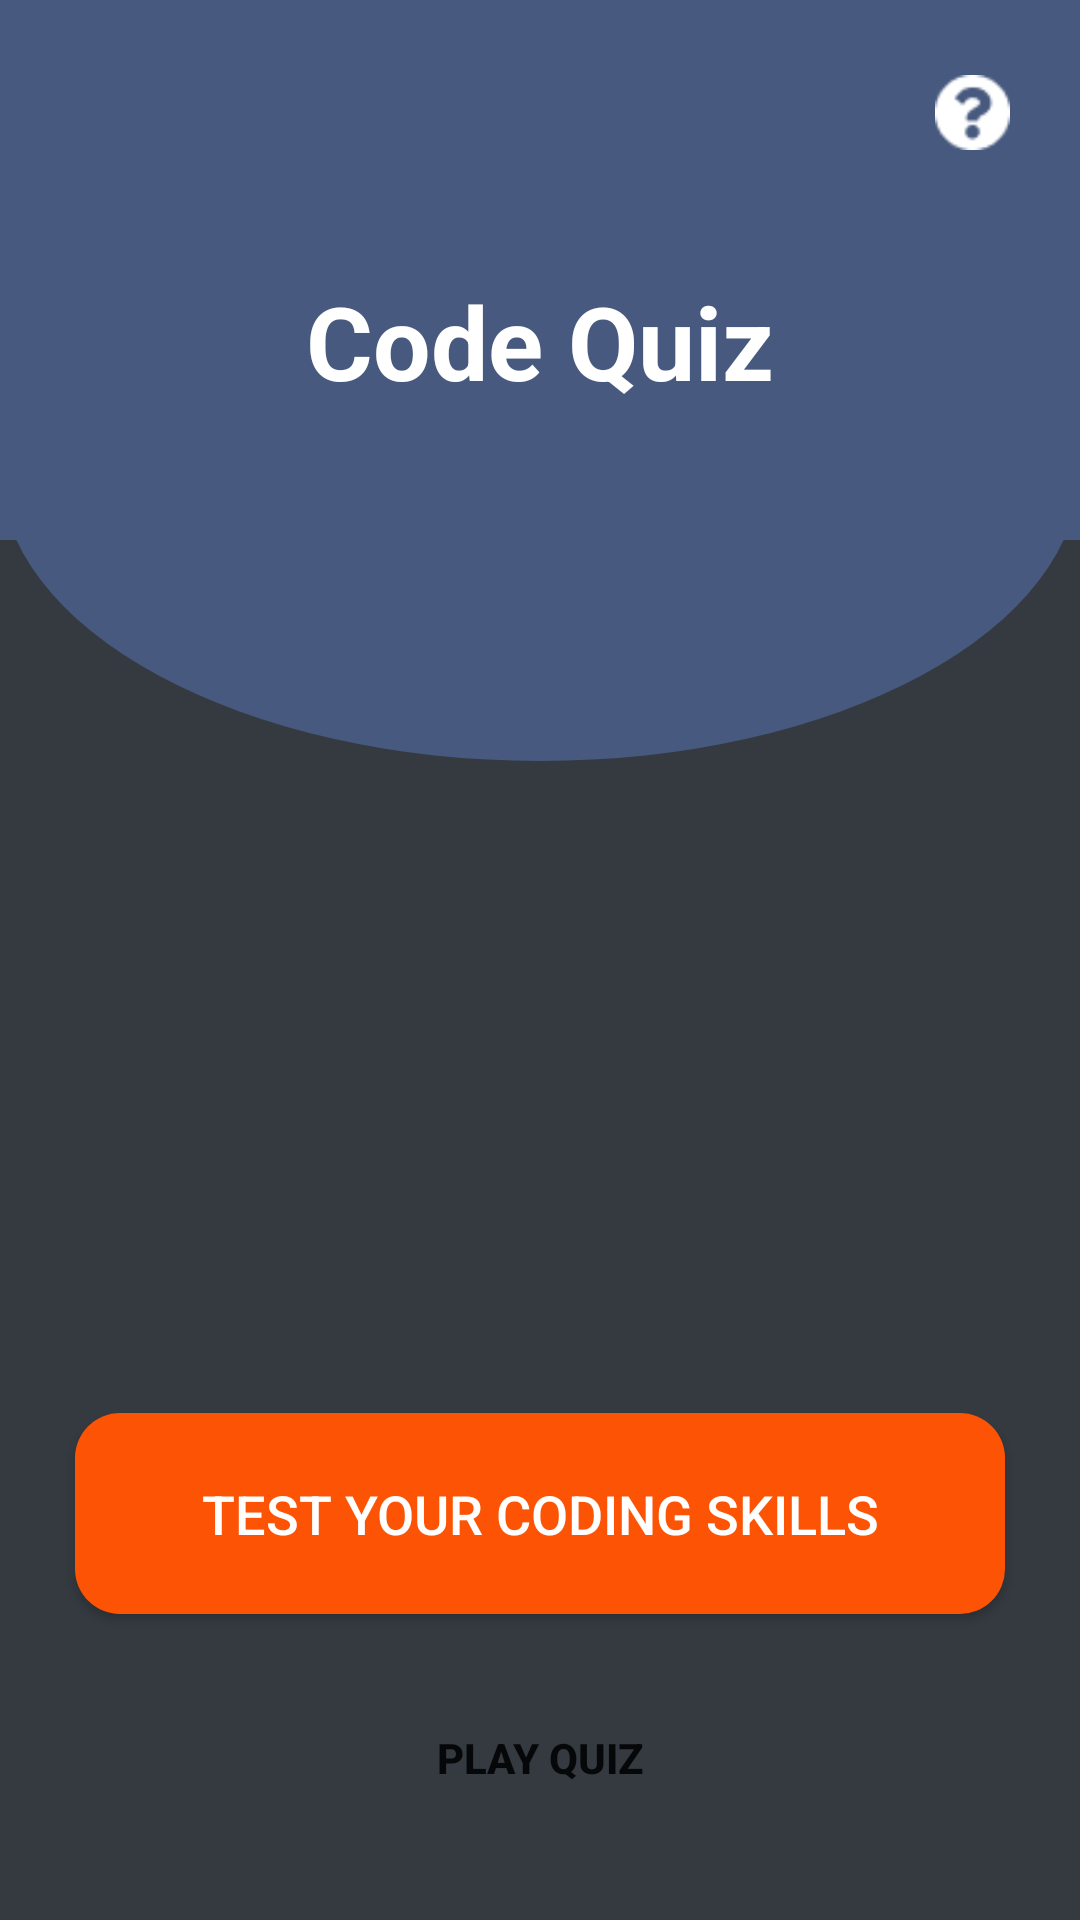

Icon click points for this 1080 × 1920 phone screenshot, format (x,y):
query: (972,112)
